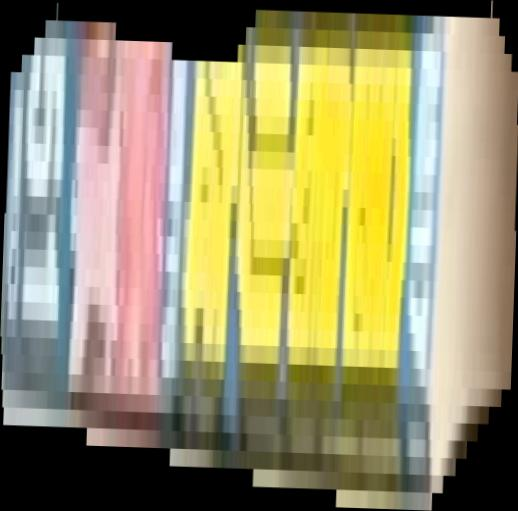flat: (1, 1, 518, 511)
